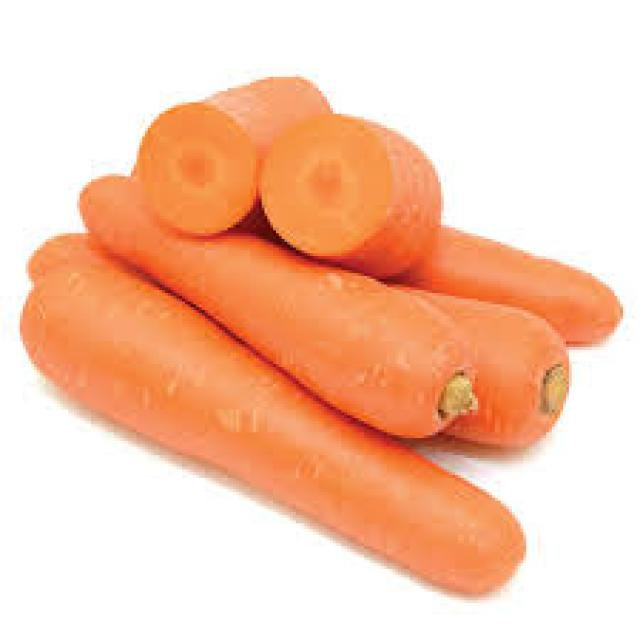Carrot: (29, 266, 520, 600), (84, 182, 466, 440), (111, 59, 326, 246), (260, 101, 450, 270)
